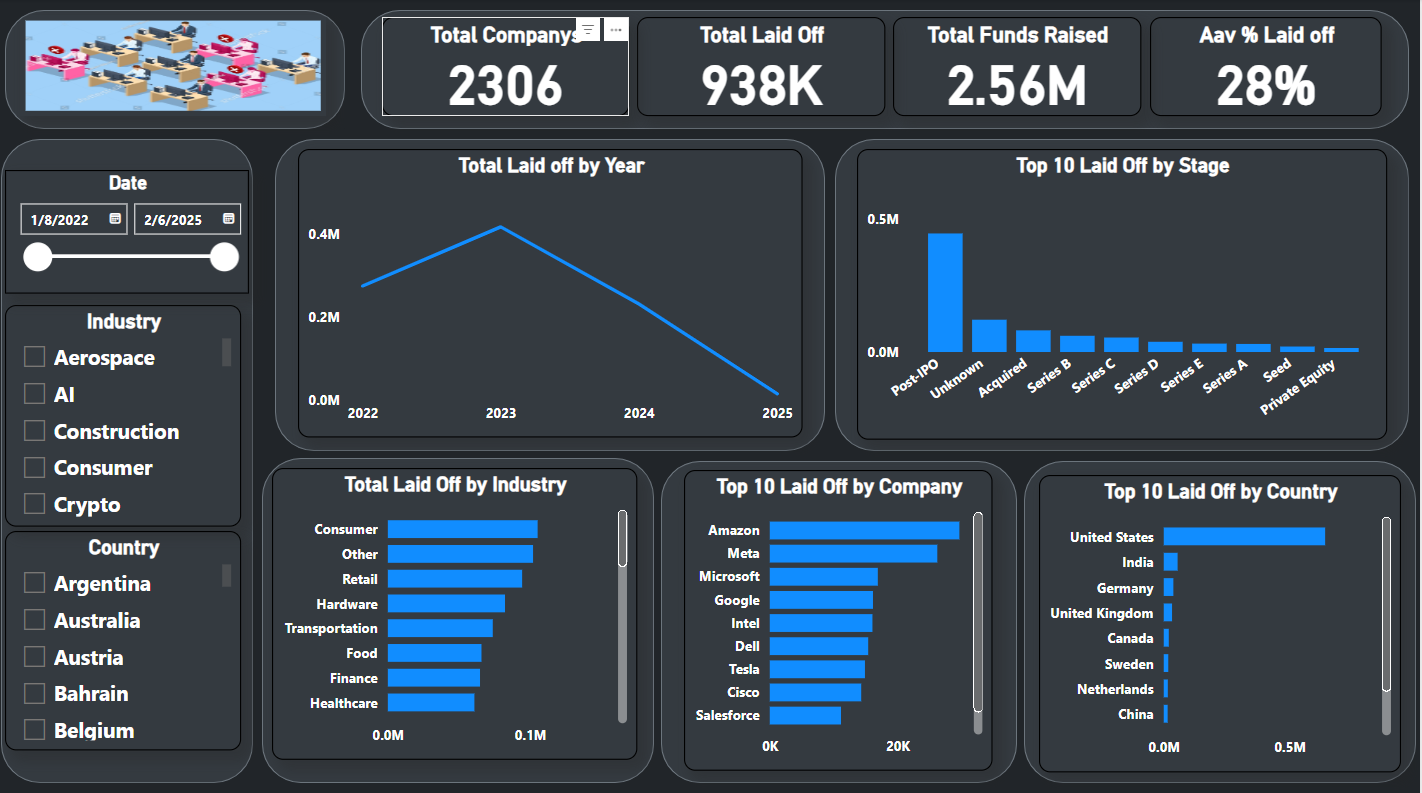

What the dashboard file says about the page in this screenshot:
{"tool":"powerbi","page":{"name":"Page 1","canvas":[1280,720],"ordinal":0},"visuals":[{"type":"shape","box":[924.7,414.8,351.9,289.1],"z":0},{"type":"shape","box":[598.8,414.8,319.6,289.1],"z":1000},{"type":"shape","box":[240.6,412.1,351.9,291.8],"z":2000},{"type":"shape","box":[6.3,125.7,226.2,578.2],"z":3000},{"type":"shape","box":[252.3,125.7,493.8,280.1],"z":4000},{"type":"shape","box":[329.5,9.9,940.8,106.8],"z":5000},{"type":"card","title":"Total Laid Off","fields":{"Values":["layoffs.#Total_laid_off"]},"box":[577.3,16.2,222.6,88.9],"z":6000},{"type":"card","title":"Total Funds Raised","fields":{"Values":["layoffs.#Total_funds_raised"]},"box":[807.1,16.2,222.6,88.9],"z":7000},{"type":"card","title":"Total Companys","fields":{"Values":["layoffs.#Total_Companys"]},"box":[348.3,16.2,221.7,88.9],"z":8000},{"type":"card","title":"Aav % Laid off","fields":{"Values":["layoffs.#Average_%_laid_off"]},"box":[1037.8,16.2,208.3,88.9],"z":9000},{"type":"barChart","title":"Total Laid Off by Industry","fields":{"Category":["layoffs.industry"],"Y":["layoffs.#Total_laid_off"]},"box":[249.6,421,327.7,262.1],"z":10000},{"type":"barChart","title":"Top 10 Laid Off by Country","fields":{"Category":["layoffs.country"],"Y":["layoffs.#Total_laid_off"]},"box":[938.2,427.3,325,266.6],"z":11000},{"type":"lineChart","title":"Total Laid off by Year","fields":{"Category":["layoffs.date.Variation.Date Hierarchy.Year","layoffs.date.Variation.Date Hierarchy.Quarter","layoffs.date.Variation.Date Hierarchy.Month"],"Y":["layoffs.#Total_laid_off"]},"box":[272.9,134.7,453.4,259.5],"z":12000},{"type":"slicer","title":"Industry","fields":{"Values":["layoffs.industry"]},"box":[9.9,274.7,211.9,199.3],"z":13000},{"type":"slicer","title":"Date","fields":{"Values":["layoffs.date"]},"box":[9.9,153.5,219.1,111.3],"z":14000},{"type":"slicer","title":"Country","fields":{"Values":["layoffs.country"]},"box":[9.9,477.6,211.9,196.6],"z":15000},{"type":"barChart","title":"Top 10 Laid Off by Company","fields":{"Category":["layoffs.company"],"Y":["layoffs.#Total_laid_off"]},"box":[619.6,423.1,277.2,270.4],"z":16000},{"type":"shape","box":[755,125.7,515.3,280.1],"z":17000},{"type":"columnChart","title":"Top 10 Laid Off by Stage","fields":{"Category":["layoffs.stage"],"Y":["layoffs.#Total_laid_off"]},"box":[774.8,134.7,475.8,261.2],"z":18000},{"type":"shape","box":[9.9,9.9,305.2,106.8],"z":19000},{"type":"image","box":[23.3,14.4,274.7,90.7],"z":19002}]}

Visuals, with their boxes in screenshot pixels (x1, y1, x2, y2), scaled from the page's 1280x720 canvas onto the 1422x793 screenshot:
shape: (x1=1027, y1=457, x2=1418, y2=775)
shape: (x1=665, y1=457, x2=1020, y2=775)
shape: (x1=267, y1=454, x2=658, y2=775)
shape: (x1=7, y1=138, x2=258, y2=775)
shape: (x1=280, y1=138, x2=829, y2=447)
shape: (x1=366, y1=11, x2=1411, y2=129)
"Total Laid Off" card: (x1=641, y1=18, x2=889, y2=116)
"Total Funds Raised" card: (x1=897, y1=18, x2=1144, y2=116)
"Total Companys" card: (x1=387, y1=18, x2=633, y2=116)
"Aav % Laid off" card: (x1=1153, y1=18, x2=1384, y2=116)
"Total Laid Off by Industry" barChart: (x1=277, y1=464, x2=641, y2=752)
"Top 10 Laid Off by Country" barChart: (x1=1042, y1=471, x2=1403, y2=764)
"Total Laid off by Year" lineChart: (x1=303, y1=148, x2=807, y2=434)
"Industry" slicer: (x1=11, y1=303, x2=246, y2=522)
"Date" slicer: (x1=11, y1=169, x2=254, y2=292)
"Country" slicer: (x1=11, y1=526, x2=246, y2=743)
"Top 10 Laid Off by Company" barChart: (x1=688, y1=466, x2=996, y2=764)
shape: (x1=839, y1=138, x2=1411, y2=447)
"Top 10 Laid Off by Stage" columnChart: (x1=861, y1=148, x2=1389, y2=436)
shape: (x1=11, y1=11, x2=350, y2=129)
image: (x1=26, y1=16, x2=331, y2=116)
